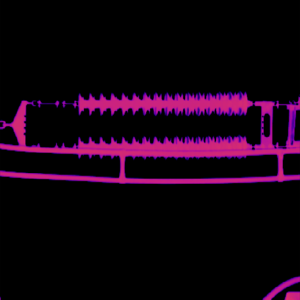insulator: (74, 90, 254, 115), (75, 134, 254, 159)
